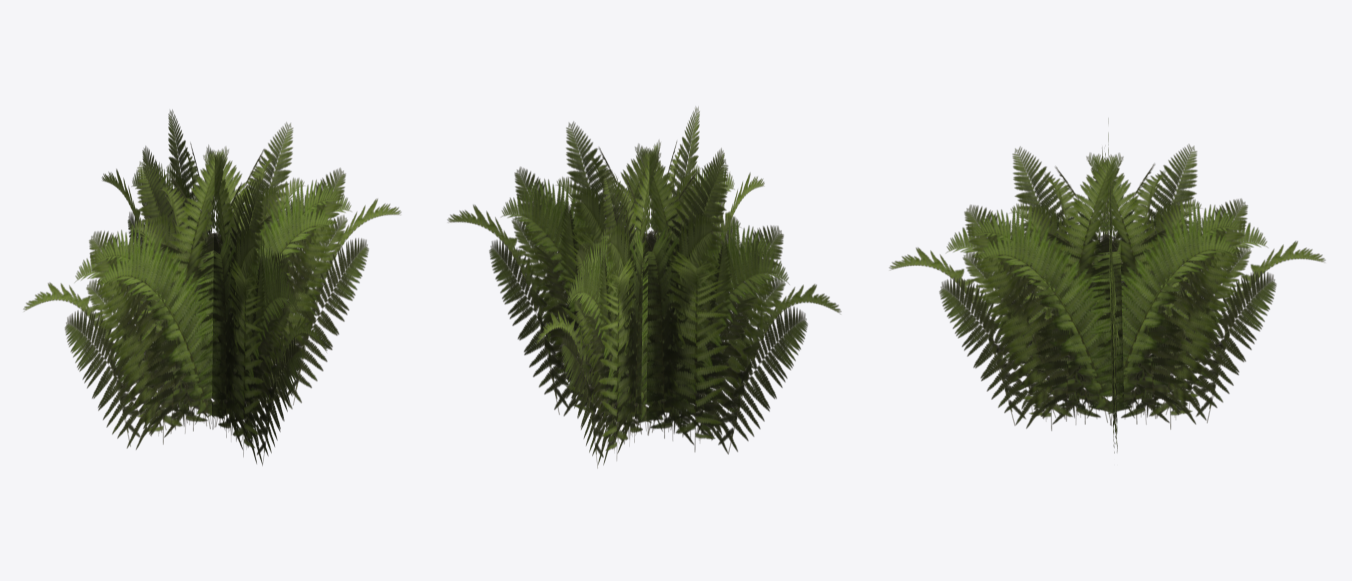
File: fern_clump.glb
The picture shows the model from 3 angles, left to right: view 1: azimuth 30°, elevation 25°; view 2: azimuth 150°, elevation 25°; view 3: azimuth 270°, elevation 25°; orthographic projection. The views are drawn at different scales.
Parts seen in each view (by area): view 1: pPlane5_w; view 2: pPlane5_w; view 3: pPlane5_w.
Part boxes in pixels (left/top/right/bottom): pPlane5_w: left=23, top=109, right=401, bottom=465; pPlane5_w: left=447, top=106, right=841, bottom=468; pPlane5_w: left=889, top=118, right=1325, bottom=453.
Size of the model in its own units: 0.9123 by 0.85 by 0.9471.
1 material, 1 textured.
